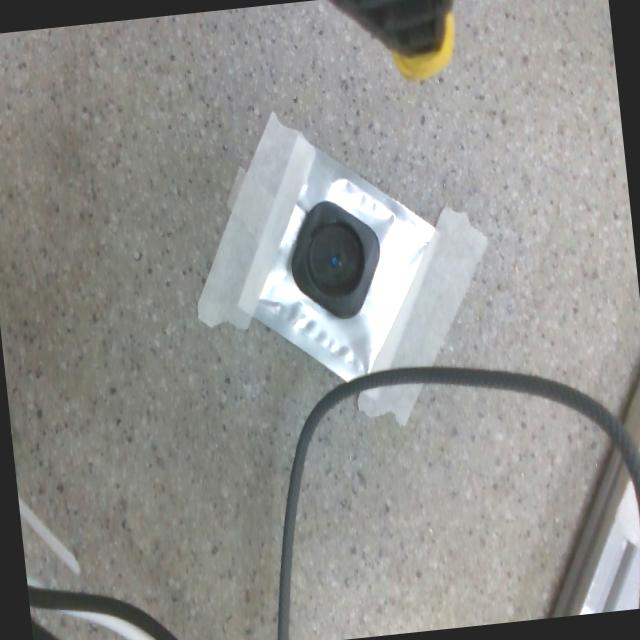cell: (284, 195, 386, 322)
